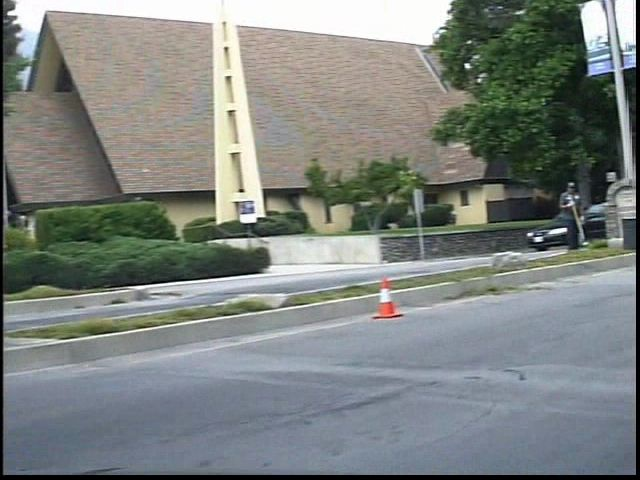person: (567, 175, 600, 256)
